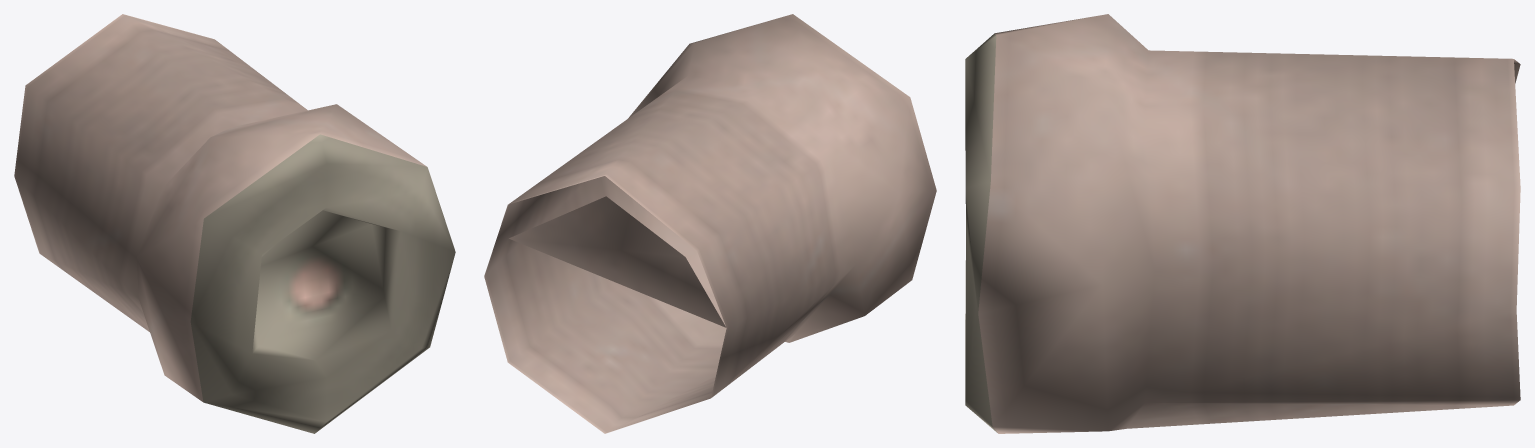
Rendered from Button.fbx.
3 views of the same model, side by side, from view 1: azimuth 30°, elevation 25°; view 2: azimuth 150°, elevation 25°; view 3: azimuth 270°, elevation 25° (orthographic). The views are drawn at different scales.
Parts seen in each view (by area): view 1: Fuse_Box.001; view 2: Fuse_Box.001; view 3: Fuse_Box.001.
Part boxes in pixels (box(x1,y1,x2,y2)): Fuse_Box.001: box(14, 14, 455, 433); Fuse_Box.001: box(484, 14, 936, 433); Fuse_Box.001: box(965, 14, 1520, 433).
Size of the model in its own units: 7.3 by 7.47 by 9.36.
